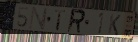1: (97, 13, 105, 36)
5: (16, 6, 31, 29)
K: (107, 13, 122, 37)
N: (28, 6, 50, 31)
R: (65, 8, 87, 35)
T: (54, 9, 67, 32)
